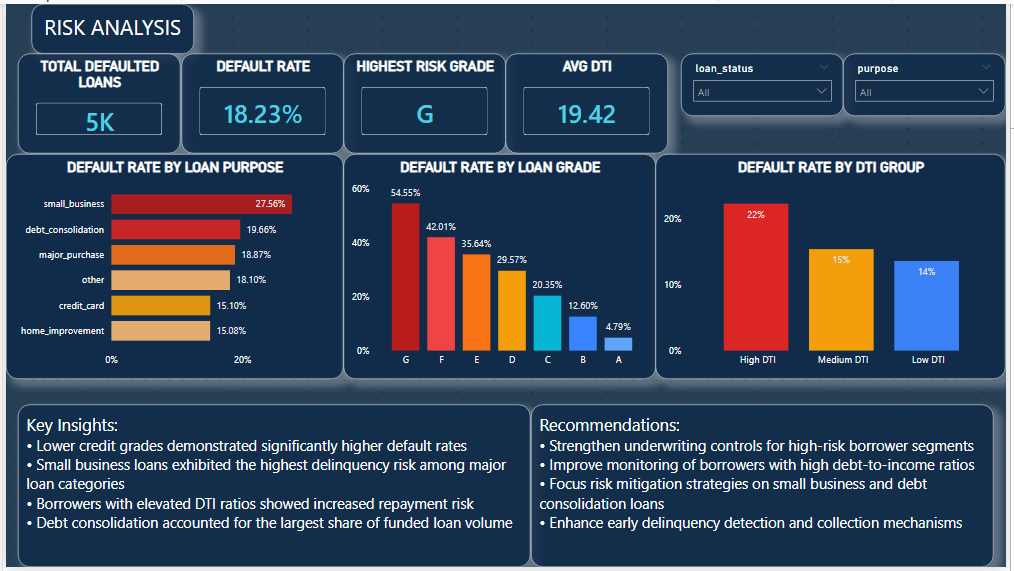

What the dashboard file says about the page in this screenshot:
{"tool":"powerbi","page":{"name":"Risk Analysis","canvas":[1280,720],"ordinal":1},"visuals":[{"type":"textbox","box":[32,0,208,64],"z":0},{"type":"cardVisual","title":"TOTAL  DEFAULTED LOANS","fields":{"Data":["loans.Defaulted Loans"]},"box":[16,64,208,128],"z":1000},{"type":"cardVisual","title":"DEFAULT RATE","fields":{"Data":["loans.Default Rate"]},"box":[224,64,208,128],"z":2000},{"type":"cardVisual","title":"HIGHEST RISK GRADE ","fields":{"Data":["loans.Highest Risk Grade"]},"box":[432,64,208,128],"z":3000},{"type":"cardVisual","title":"AVG DTI","fields":{"Data":["loans.Avg DTI"]},"box":[640,64,208,128],"z":4000},{"type":"clusteredBarChart","title":"DEFAULT RATE BY LOAN PURPOSE","fields":{"Y":["loans.Default Rate"],"Category":["loans.purpose"]},"box":[0,192,432,288],"z":5000},{"type":"clusteredColumnChart","title":"DEFAULT RATE BY LOAN GRADE","fields":{"Category":["loans.grade"],"Y":["loans.Default Rate"]},"box":[432,192,400,288],"z":6000},{"type":"clusteredColumnChart","title":"DEFAULT RATE BY DTI GROUP","fields":{"Category":["loans.DTI Group"],"Y":["loans.Default Rate"]},"box":[832,192,448,288],"z":7000},{"type":"textbox","box":[16,512,656,208],"z":8000},{"type":"textbox","box":[672,512,592,208],"z":9000},{"type":"slicer","fields":{"Values":["loans.loan_status"]},"box":[864,64,208,80],"z":10000},{"type":"slicer","fields":{"Values":["loans.purpose"]},"box":[1072,64,208,80],"z":11000}]}

Visuals, with their boxes in screenshot pixels (x1, y1, x2, y2), scaled from the page's 1280x720 canvas onto the 1014x571 screenshot:
textbox: (x1=25, y1=0, x2=190, y2=51)
"TOTAL  DEFAULTED LOANS" cardVisual: (x1=13, y1=51, x2=177, y2=152)
"DEFAULT RATE" cardVisual: (x1=177, y1=51, x2=342, y2=152)
"HIGHEST RISK GRADE " cardVisual: (x1=342, y1=51, x2=507, y2=152)
"AVG DTI" cardVisual: (x1=507, y1=51, x2=672, y2=152)
"DEFAULT RATE BY LOAN PURPOSE" clusteredBarChart: (x1=0, y1=152, x2=342, y2=381)
"DEFAULT RATE BY LOAN GRADE" clusteredColumnChart: (x1=342, y1=152, x2=659, y2=381)
"DEFAULT RATE BY DTI GROUP" clusteredColumnChart: (x1=659, y1=152, x2=1013, y2=381)
textbox: (x1=13, y1=406, x2=532, y2=570)
textbox: (x1=532, y1=406, x2=1001, y2=570)
slicer - loans.loan_status: (x1=684, y1=51, x2=849, y2=114)
slicer - loans.purpose: (x1=849, y1=51, x2=1013, y2=114)
